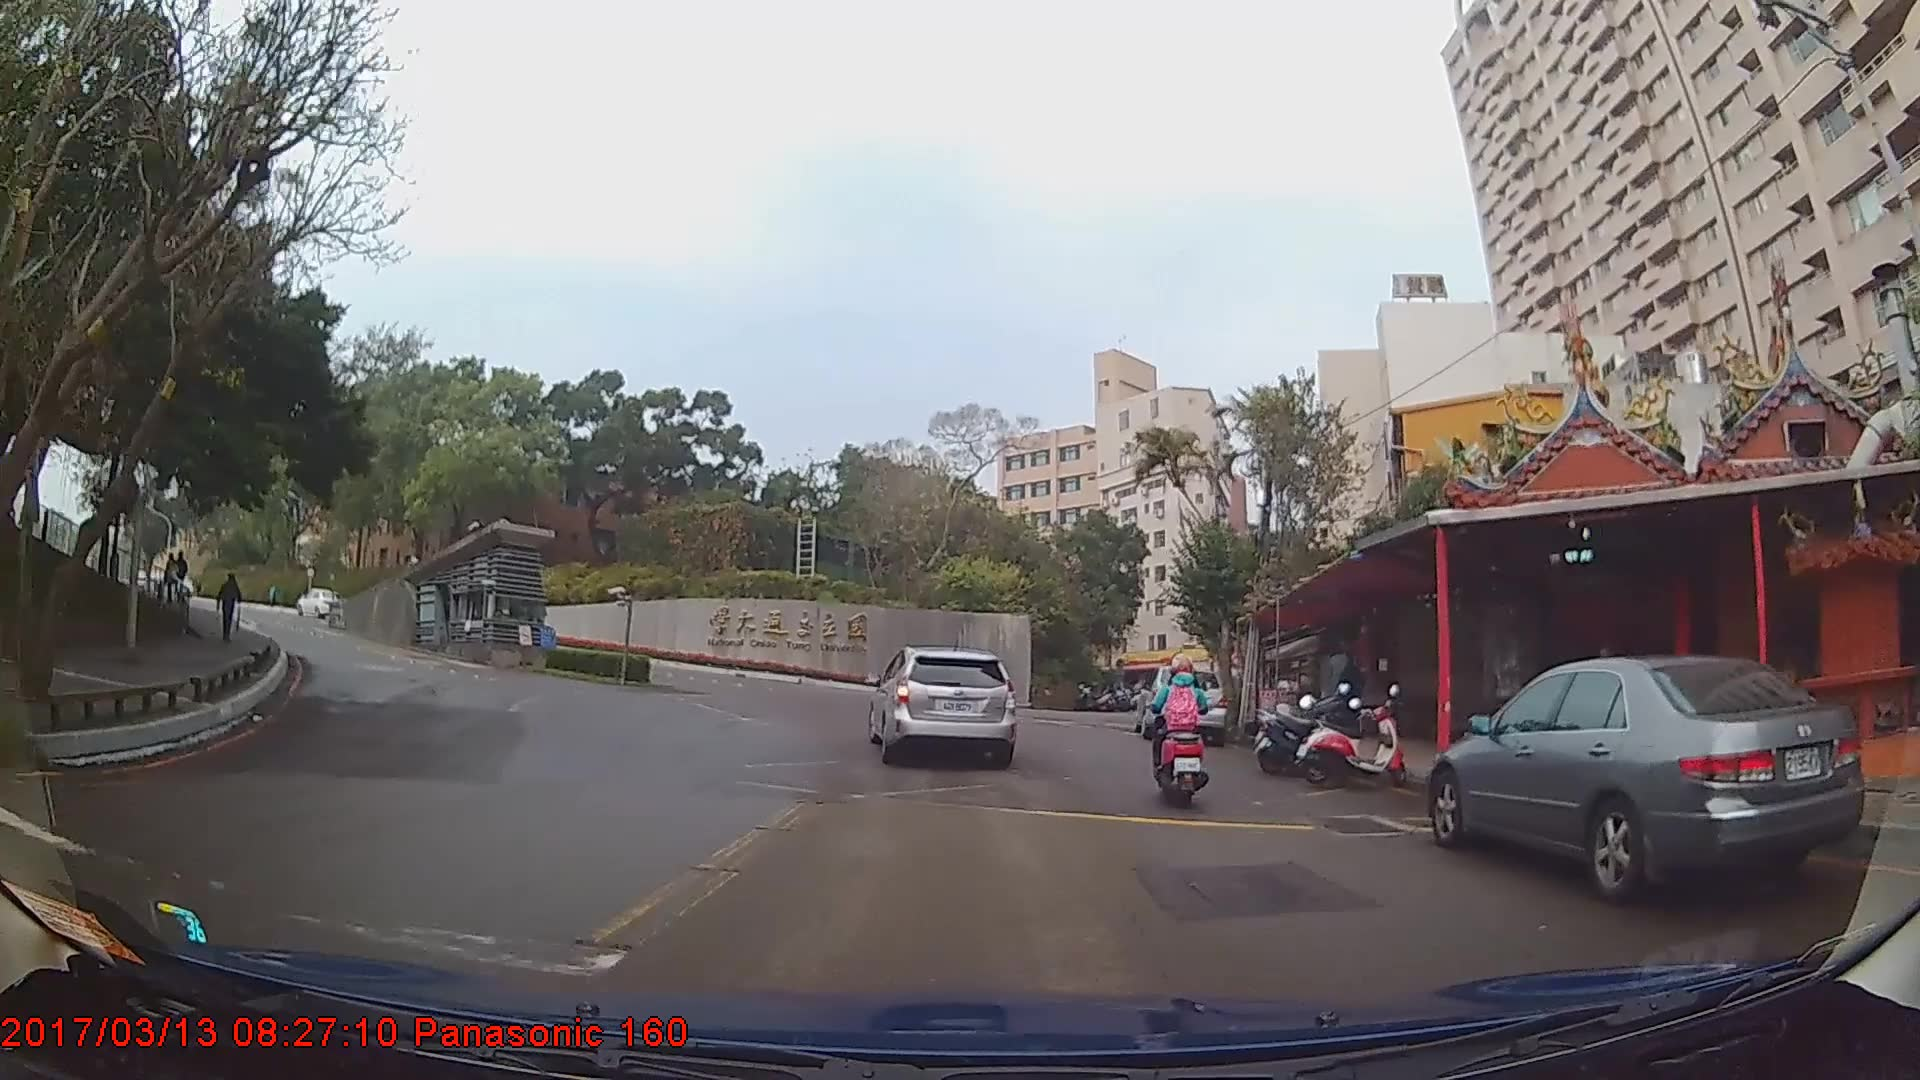pedestrian: (1337, 648, 1371, 741), (217, 574, 245, 643), (163, 550, 183, 609), (174, 549, 194, 605)
rider: (1145, 651, 1218, 811)
vehicle: (1429, 655, 1864, 907), (864, 641, 1013, 764), (1132, 662, 1225, 744), (297, 586, 346, 615)
